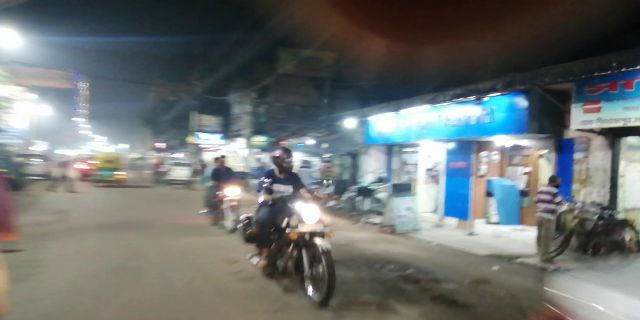Motorbike: (239, 144, 345, 305)
